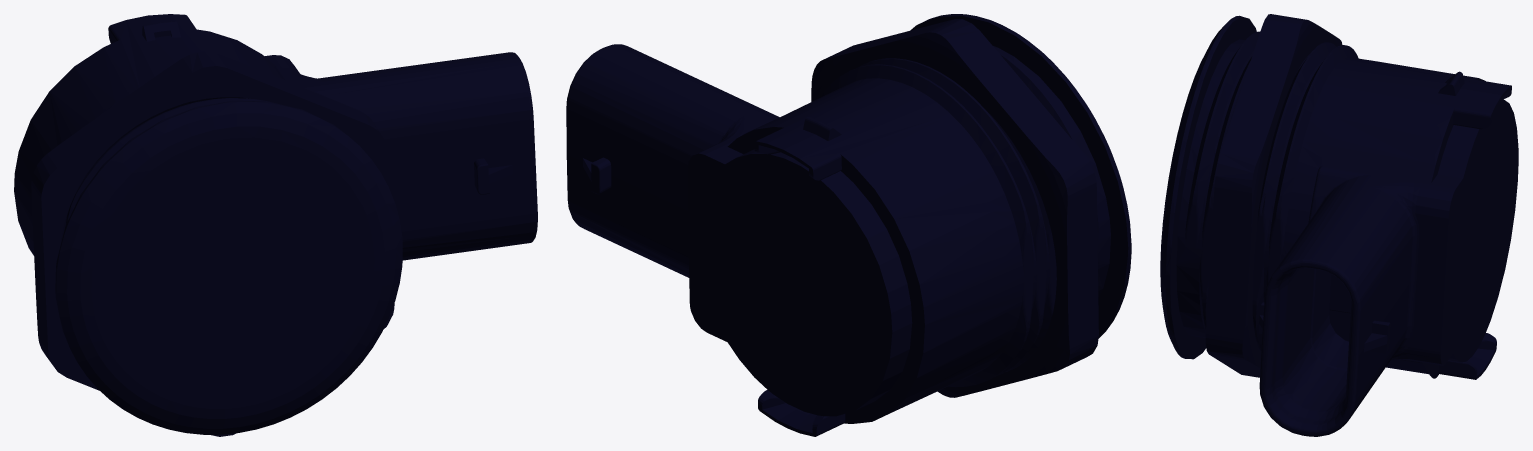
Rendered from ultrasonic_03.glb.
3 views of the same model, side by side, from view 1: azimuth 30°, elevation 25°; view 2: azimuth 150°, elevation 25°; view 3: azimuth 270°, elevation 25° (orthographic). The views are drawn at different scales.
Parts seen in each view (by area): view 1: ultrasonic_03; view 2: ultrasonic_03; view 3: ultrasonic_03.
Part boxes in pixels (box(x1,y1,x2,y2)): ultrasonic_03: box(14, 14, 537, 436); ultrasonic_03: box(566, 14, 1131, 436); ultrasonic_03: box(1160, 14, 1518, 436).
Bounding box in the file's own units: 0.0489 × 0.0338 × 0.0309.
